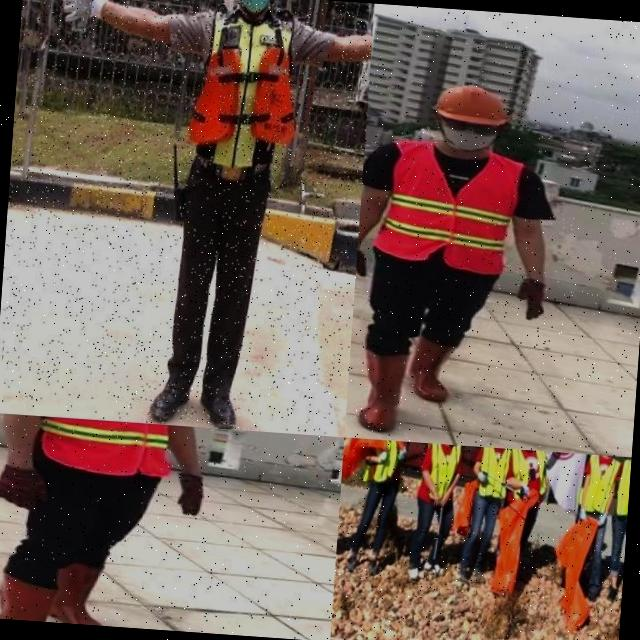boots: (348, 347, 412, 438), (44, 558, 124, 626), (0, 572, 98, 625), (402, 329, 461, 405), (144, 366, 198, 426), (194, 382, 243, 430)
helmet: (426, 75, 518, 132)
vest: (180, 0, 316, 183), (366, 133, 524, 280), (30, 415, 192, 485), (575, 454, 631, 516), (464, 446, 518, 506), (502, 448, 556, 506), (422, 443, 459, 492), (366, 441, 399, 489), (606, 458, 631, 518)
